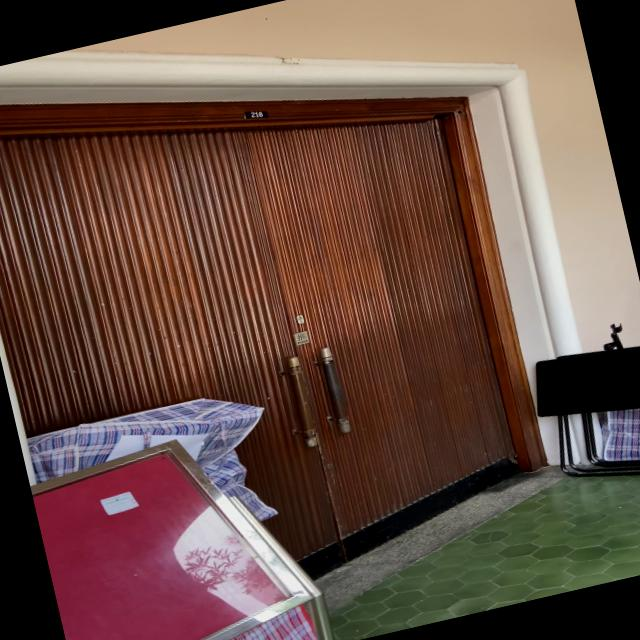room218: (242, 105, 270, 122)
